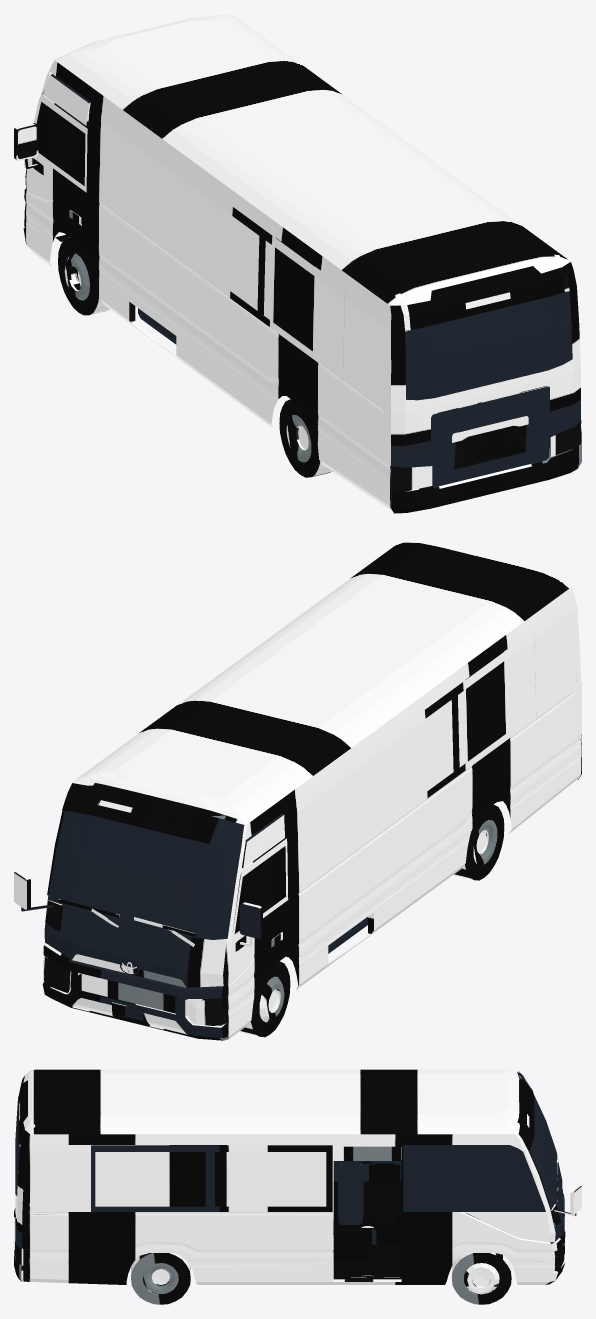
File: minibus.glb
3 views of the same model, one above another, from view 1: azimuth 30°, elevation 25°; view 2: azimuth 150°, elevation 25°; view 3: azimuth 270°, elevation 25° (orthographic). The views are drawn at different scales.
Visible parts, largest first — view 1: lod0; view 2: lod0; view 3: lod0.
Part boxes in pixels (left/top/right/bottom): lod0: left=14, top=14, right=581, bottom=513; lod0: left=14, top=542, right=581, bottom=1040; lod0: left=14, top=1069, right=581, bottom=1304.
Size of what is drawn, in the model's own units: 2.36 by 2.44 by 7.
Materials: 1 (1 with a texture image).
